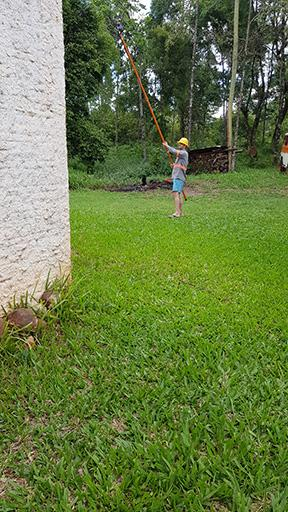Vara_Manobra: (117, 33, 186, 201)
